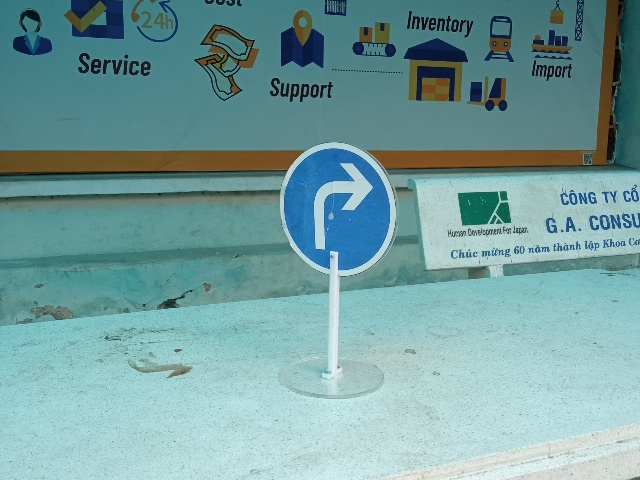Right_Sign: (280, 140, 399, 277)
